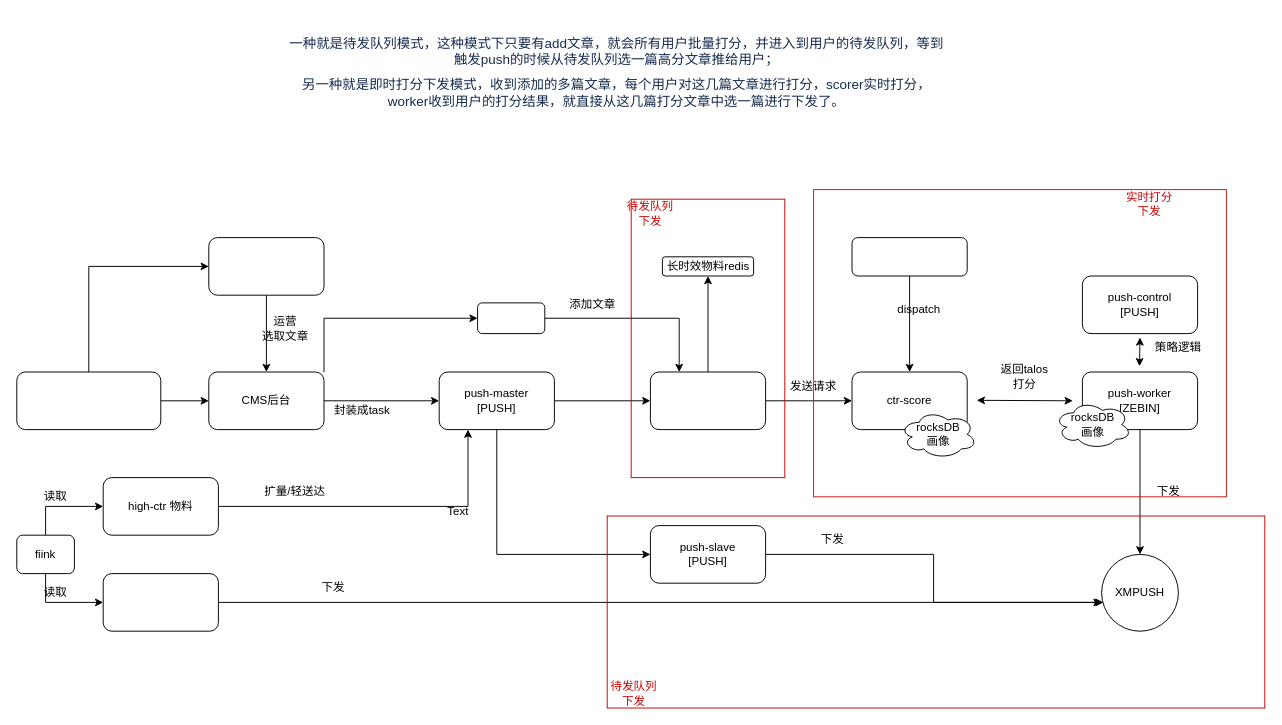
Image size: 1282x725. Some labels were removed from this diagram. Here are the shapes that lost their labels. From the top down, the centre of each, then its label:
At [266,266]: "内容池".
At [909,256]: "talos模型画像".
At [511,318]: "长时效redis".
At [88,400]: "竞品 （browser/头条...物料）".
At [707,400]: "push-master [ZEBIN]".
At [160,602]: "试探（地域/垂类...）".
